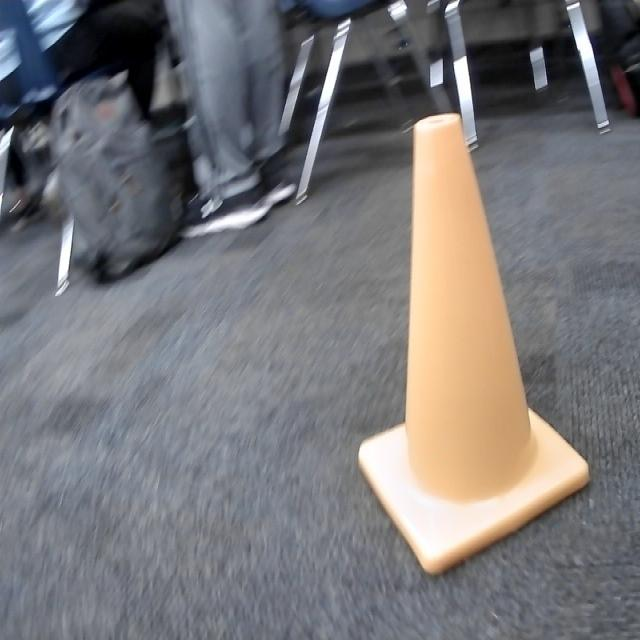cone: (360, 114, 590, 574)
